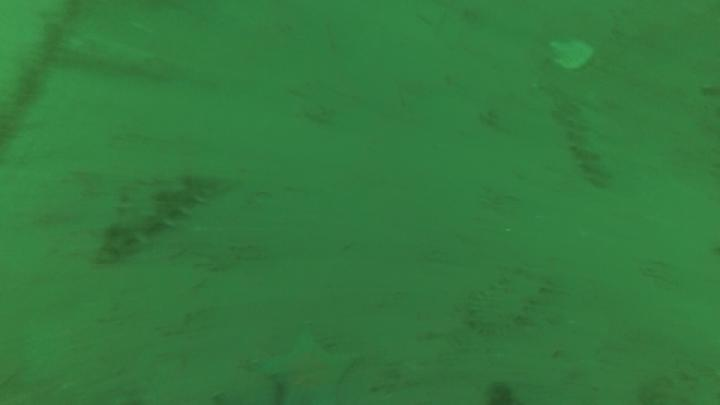holothurian: (94, 174, 222, 263), (474, 262, 557, 336), (564, 117, 618, 188)
scallop: (552, 36, 594, 70)
starfish: (259, 331, 353, 405)
